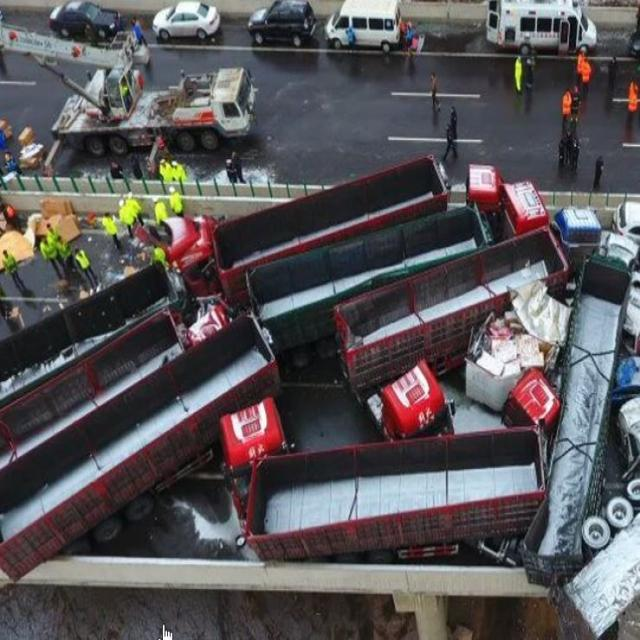traffic_incident: (2, 203, 639, 593)
